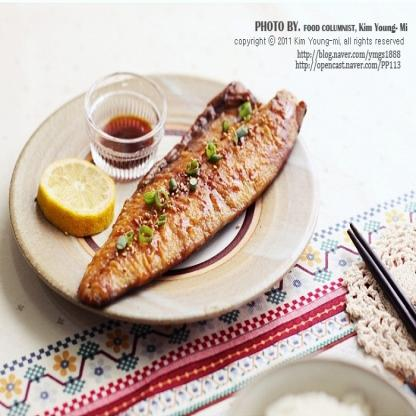Peixe: (69, 79, 322, 311)
